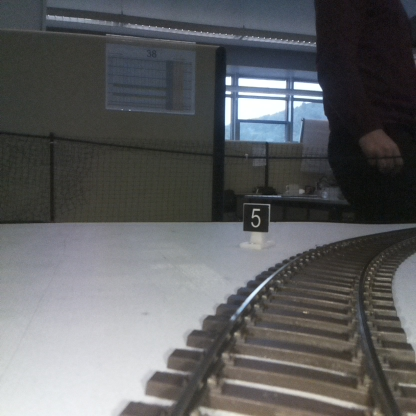black-stop-5: (243, 204, 270, 249)
